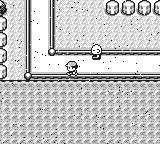main: (65, 62, 78, 75)
no-caminable: (0, 80, 159, 143), (104, 0, 159, 16), (0, 16, 8, 79), (0, 0, 7, 16)
npc: (90, 45, 102, 60)
